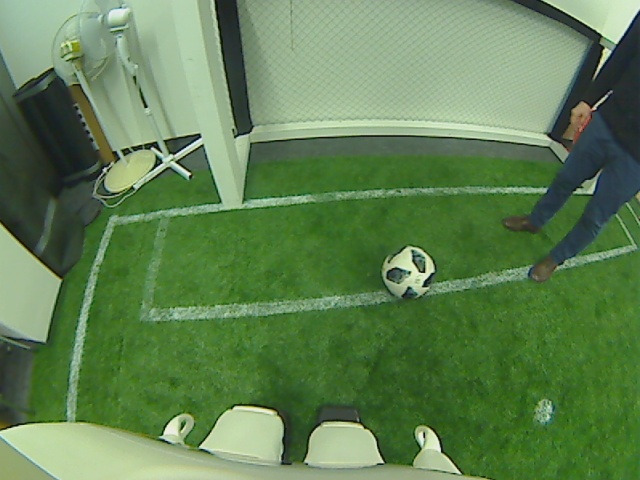ball: (378, 243, 438, 301)
